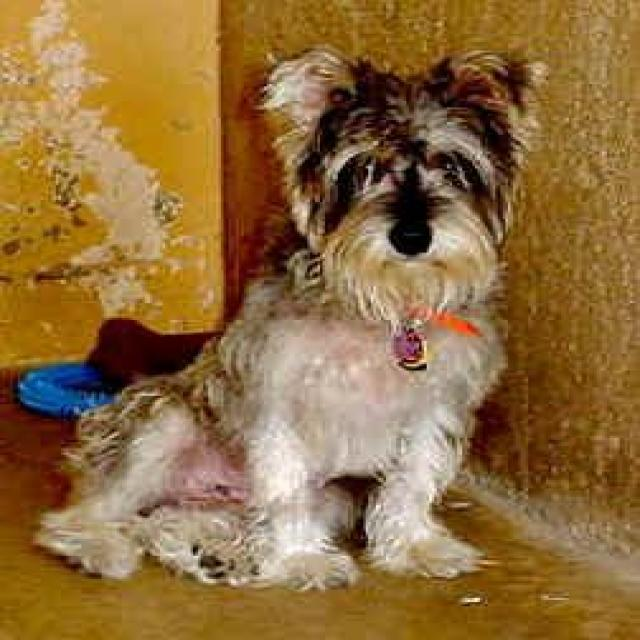standard_schnauzer: (33, 42, 546, 594)
